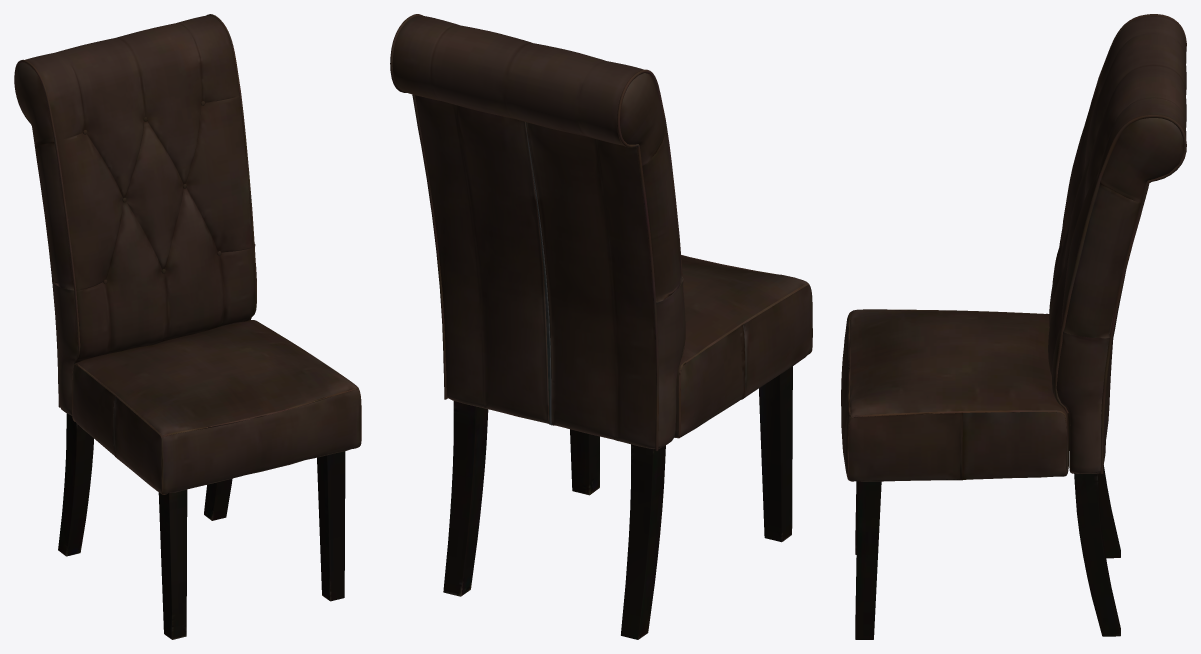
Rendered from dining_chair_02.glb.
The picture shows the model from 3 angles, left to right: view 1: azimuth 30°, elevation 25°; view 2: azimuth 150°, elevation 25°; view 3: azimuth 270°, elevation 25°; orthographic projection. The views are drawn at different scales.
Visible parts, largest first — view 1: dining_chair_02; view 2: dining_chair_02; view 3: dining_chair_02.
Part boxes in pixels (bbox=[...]): dining_chair_02: bbox=[14, 14, 361, 639]; dining_chair_02: bbox=[390, 14, 812, 639]; dining_chair_02: bbox=[841, 14, 1186, 639].
Bounding box in the file's own units: 0.4336 × 0.9734 × 0.5765.
1 material, 1 textured.
